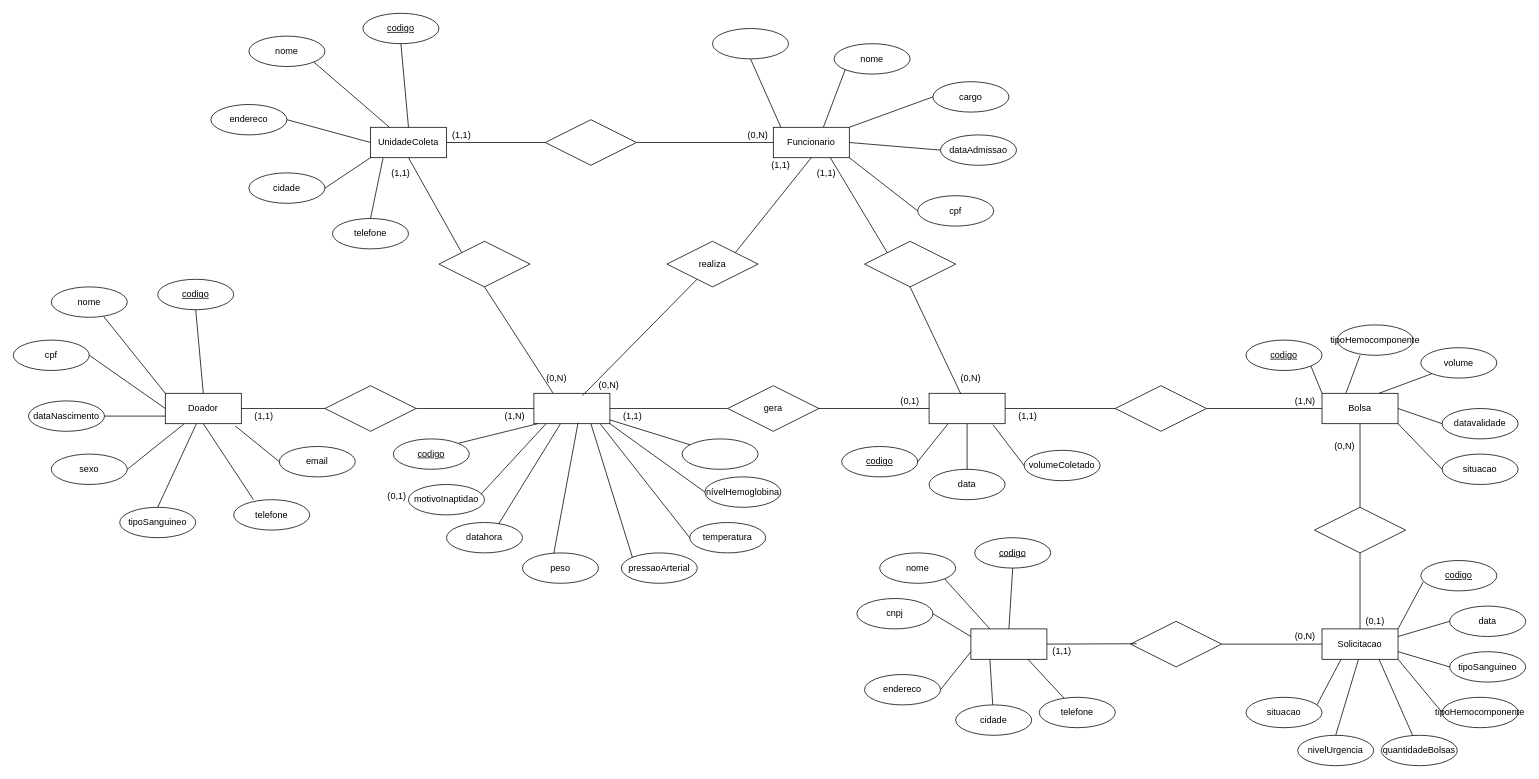
The diagram is 1539 pixels wide and 779 high, and some of its shapes have lost their labels. The shapes that lost their labels are listed below. From the top down, each one's centre as x and y in pixels, then its label:
At point (750, 43): "matricula".
At point (590, 142): "trabalha".
At point (484, 264): "ocorre".
At point (910, 264): "coleta".
At point (370, 408): "passa por".
At point (571, 408): "Triagem".
At point (966, 408): "Doacao".
At point (1160, 408): "origina".
At point (719, 453): "resultado".
At point (1360, 530): "atende".
At point (1008, 643): "Hospital".
At point (1176, 644): "faz".
